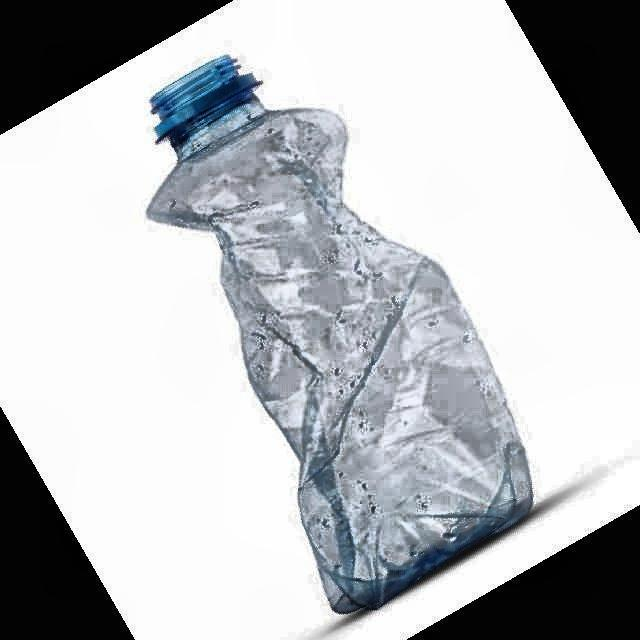plastic: (148, 56, 532, 612)
